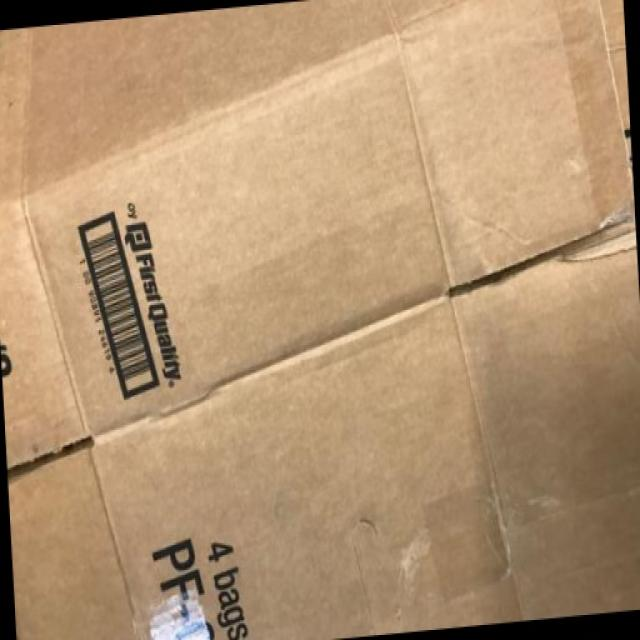carton: (2, 6, 640, 636)
